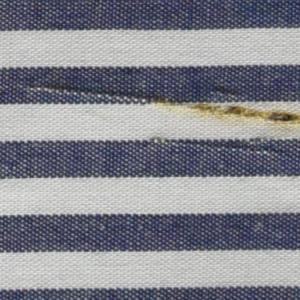Damage: (22, 74, 300, 126), (119, 138, 295, 160)
Oil Stain: (146, 92, 300, 128)
